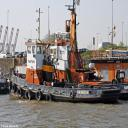tugboat: (9, 9, 123, 108)
